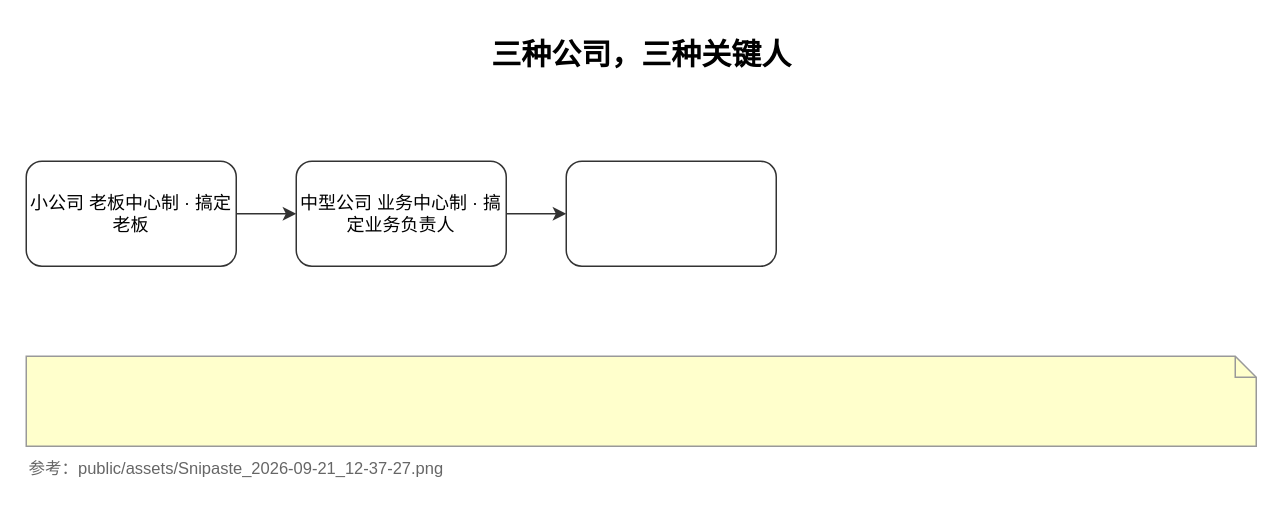
This 1283x507 diagram has some shape labels left out. Each missing label, with the box of its shape:
公司越大，拍板人与价值链越复杂。: (25, 355, 1256, 446)
大型集团 复杂部门、流程与权限 · 搞定高层: (565, 160, 776, 266)
